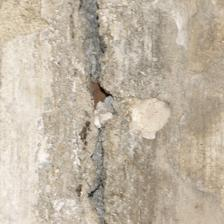Crack: (33, 1, 91, 214)
